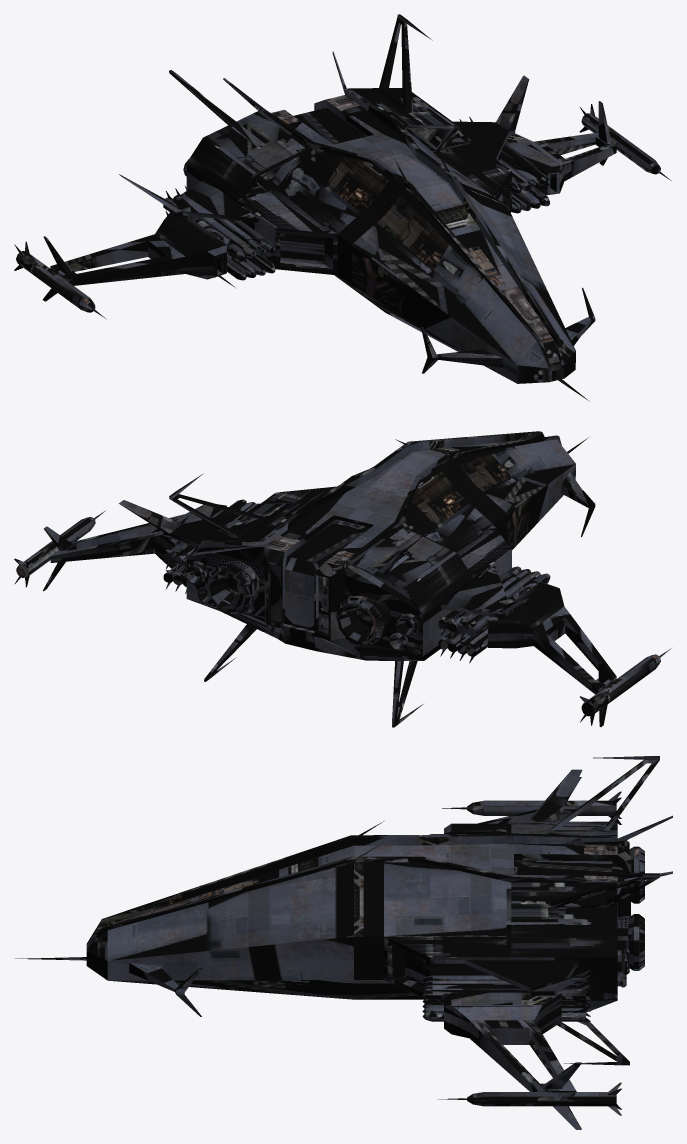
Rendered from cobra_interceptor.obj.
The picture shows the model from 3 angles, top to bottom: view 1: azimuth 30°, elevation 25°; view 2: azimuth 150°, elevation 25°; view 3: azimuth 270°, elevation 25°; orthographic projection. The views are drawn at different scales.
Visible parts, largest first — view 1: Object01; view 2: Object01; view 3: Object01.
Part boxes in pixels (left/top/right/bottom): Object01: left=14, top=14, right=671, bottom=401; Object01: left=14, top=431, right=671, bottom=727; Object01: left=15, top=756, right=672, bottom=1129.
Bounding box in the file's own units: 68.48 × 21.64 × 64.14.
